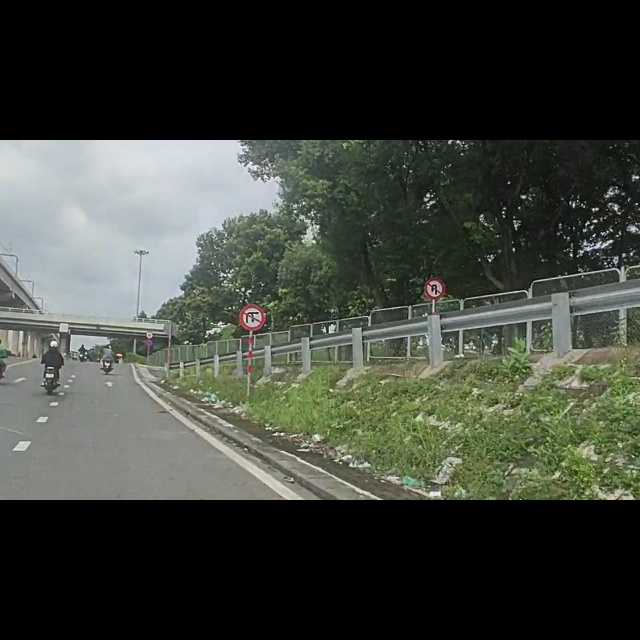bien_cam: (239, 292, 266, 339), (425, 245, 445, 283), (146, 340, 153, 352), (145, 356, 153, 366)
